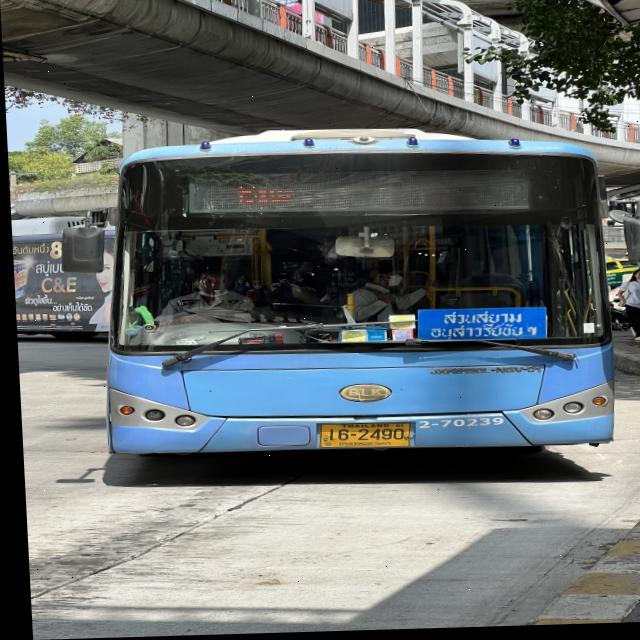BMTA-bus: (101, 133, 612, 462)
Bus Line Number: (428, 173, 524, 212)
Bus Side Number: (412, 414, 507, 432)
Destination Sign: (415, 307, 546, 348)
